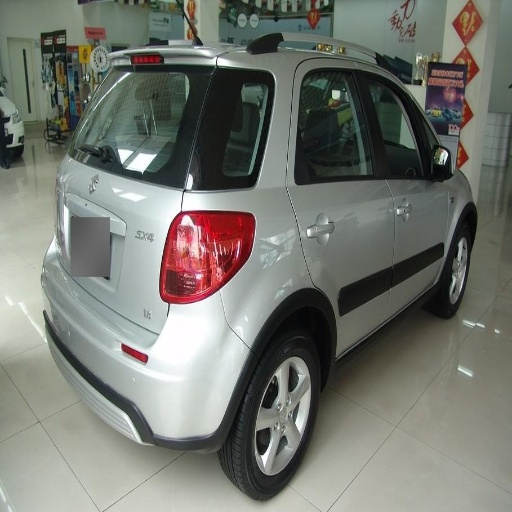back_bumper: (51, 272, 253, 453)
back_right_door: (288, 63, 394, 347)
tailgate: (64, 215, 174, 330)
trunk: (64, 160, 181, 273)
